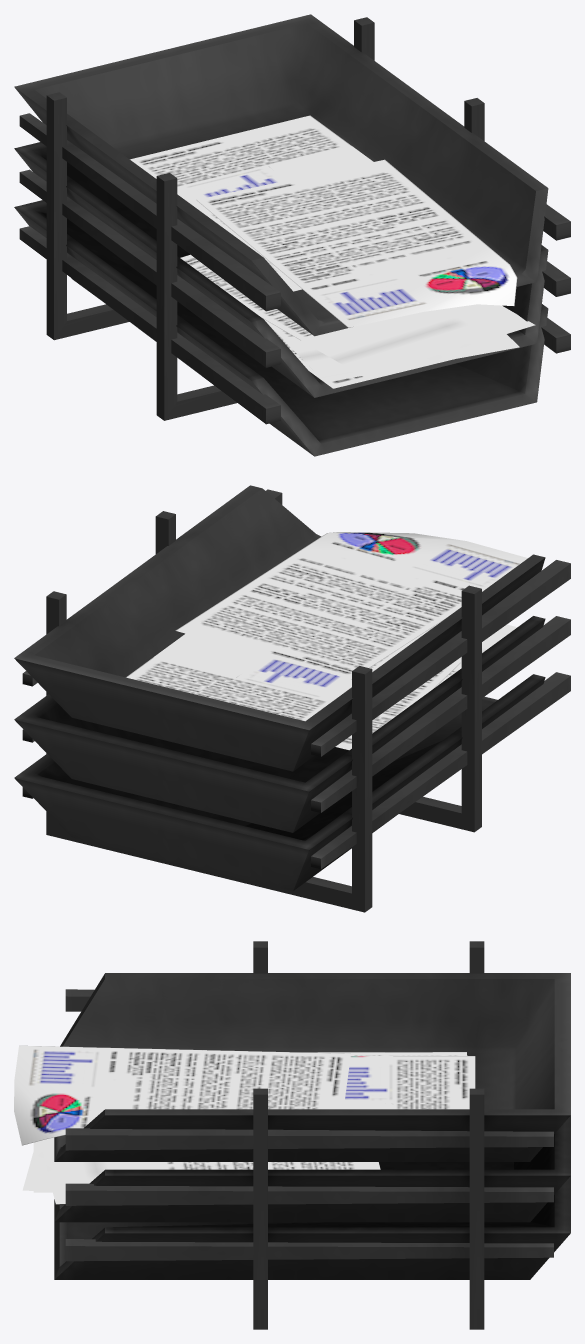
File: document_holder_2.fbx
3 views of the same model, one above another, from view 1: azimuth 30°, elevation 25°; view 2: azimuth 150°, elevation 25°; view 3: azimuth 270°, elevation 25° (orthographic).
Parts seen in each view (by area): view 1: document_holder_2; view 2: document_holder_2; view 3: document_holder_2.
Part boxes in pixels (<box>): document_holder_2: <box>14,14,570,456</box>; document_holder_2: <box>14,485,570,912</box>; document_holder_2: <box>14,941,570,1329</box>.
Bounding box in the file's own units: 30.81 × 22.01 × 47.29.
